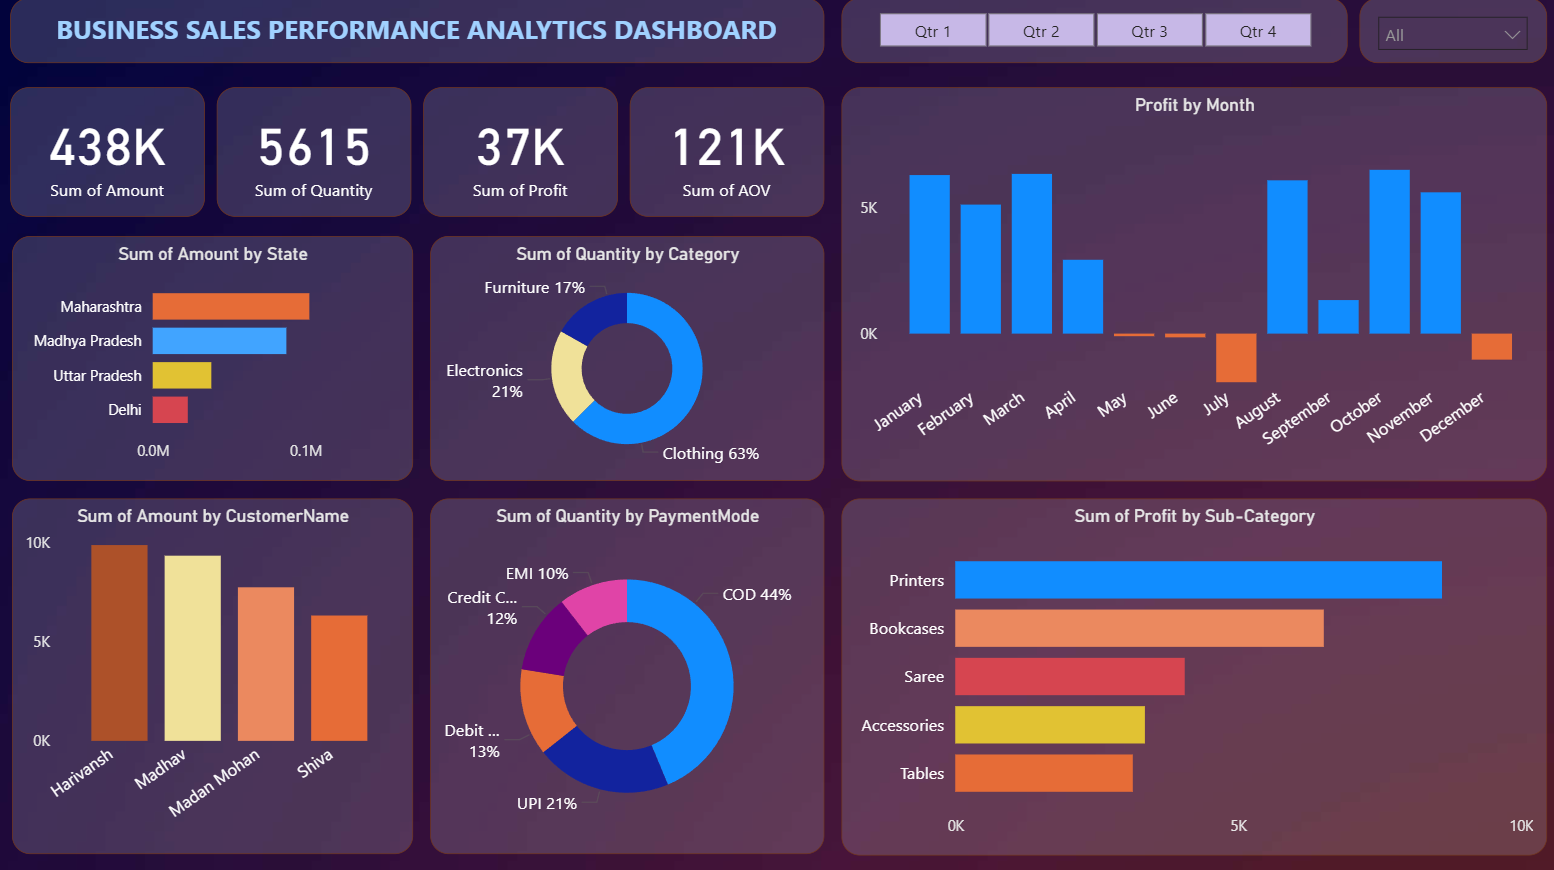

The page's visual inventory and layout, read from the dashboard file:
{"tool":"powerbi","page":{"name":"Page 1","canvas":[1280,720],"ordinal":0},"visuals":[{"type":"textbox","box":[10,0,664.3,52.9],"z":0},{"type":"columnChart","title":"Profit by Month","fields":{"Y":["Sum(Details.Profit)"],"Category":["Orders.Order Date.Variation.Date Hierarchy.Month"]},"box":[688.6,72.9,575.7,321.4],"z":1000},{"type":"barChart","fields":{"Category":["Details.Sub-Category"],"Y":["Sum(Details.Profit)"]},"box":[688.6,408.6,575.7,291.4],"z":2000},{"type":"donutChart","fields":{"Category":["Details.Category"],"Y":["Sum(Details.Quantity)"]},"box":[352.9,194.3,321.4,200],"z":3000},{"type":"donutChart","fields":{"Y":["Sum(Details.Quantity)"],"Category":["Details.PaymentMode"]},"box":[352.9,408.6,321.4,290],"z":4000},{"type":"card","fields":{"Values":["Sum(Details.Amount)"]},"box":[10,72.9,158.6,105.7],"z":5000},{"type":"card","fields":{"Values":["Sum(Details.Quantity)"]},"box":[178.6,72.9,158.6,105.7],"z":6000},{"type":"card","fields":{"Values":["Sum(Details.Profit)"]},"box":[347.1,72.9,158.6,105.7],"z":7000},{"type":"card","fields":{"Values":["Sum(Details.AOV)"]},"box":[515.7,72.9,158.6,105.7],"z":8000},{"type":"barChart","fields":{"Category":["Orders.State"],"Y":["Sum(Details.Amount)"]},"box":[11.4,194.3,327.1,200],"z":9000},{"type":"columnChart","fields":{"Category":["Orders.CustomerName"],"Y":["Sum(Details.Amount)"]},"box":[11.4,408.6,327.1,290],"z":10000},{"type":"slicer","fields":{"Values":["Orders.Order Date.Variation.Date Hierarchy.Quarter"]},"box":[688.6,0,412.9,52.9],"z":11000},{"type":"slicer","fields":{"Values":["Orders.State"]},"box":[1111.4,0,152.9,52.9],"z":12000}]}

Visuals, with their boxes in screenshot pixels (x1, y1, x2, y2), scaled from the page's 1280x720 canvas onto the 1554x870 screenshot:
textbox: 12/0/819/64
"Profit by Month" columnChart: 836/88/1535/476
barChart - Details.Sub-Category x Sum(Details.Profit): 836/494/1535/846
donutChart - Details.Category x Sum(Details.Quantity): 428/235/819/476
donutChart - Sum(Details.Quantity) x Details.PaymentMode: 428/494/819/844
card - Sum(Details.Amount): 12/88/205/216
card - Sum(Details.Quantity): 217/88/409/216
card - Sum(Details.Profit): 421/88/614/216
card - Sum(Details.AOV): 626/88/819/216
barChart - Orders.State x Sum(Details.Amount): 14/235/411/476
columnChart - Orders.CustomerName x Sum(Details.Amount): 14/494/411/844
slicer - Orders.Order Date.Variation.Date Hierarchy.Quarter: 836/0/1337/64
slicer - Orders.State: 1349/0/1535/64
